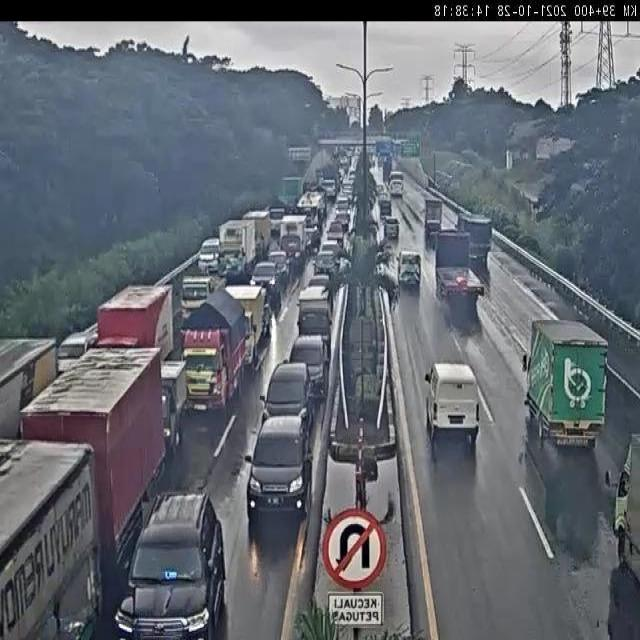Car: (116, 493, 226, 637), (245, 410, 313, 521), (259, 362, 312, 443), (56, 322, 100, 373), (265, 250, 288, 286), (314, 248, 338, 278), (326, 219, 346, 249), (335, 200, 351, 230), (319, 178, 336, 198), (336, 151, 351, 172), (336, 165, 346, 184), (368, 152, 378, 170)
Truck: (1, 437, 103, 640), (524, 311, 614, 436), (167, 285, 249, 415), (96, 285, 176, 359), (215, 218, 256, 282), (459, 214, 493, 276), (424, 199, 443, 243)
Van: (420, 355, 489, 451), (392, 246, 425, 294), (384, 217, 400, 240)
